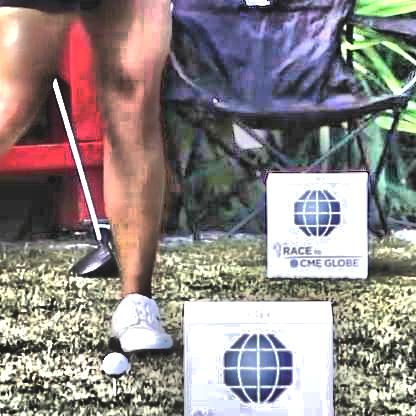golfball: (98, 348, 126, 377)
